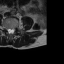CCS_normal: (10, 26, 12, 36)
LFS_normal: (14, 25, 16, 33)
LLS_normal: (12, 26, 14, 35)
RFS_normal: (5, 25, 8, 32)
RLS_normal: (8, 26, 10, 35)
